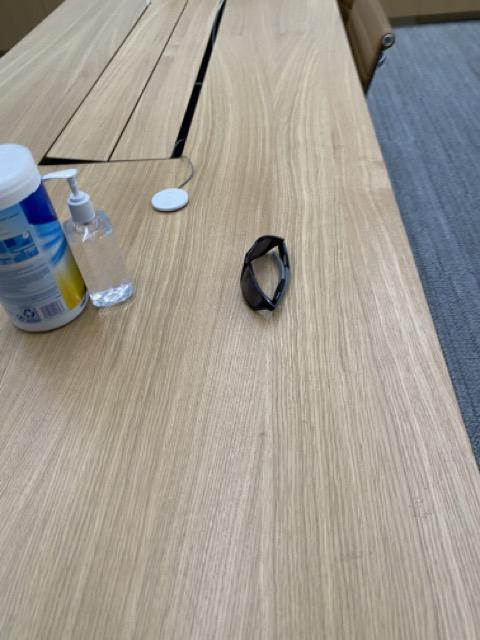Sunglasses: (240, 234, 291, 313)
